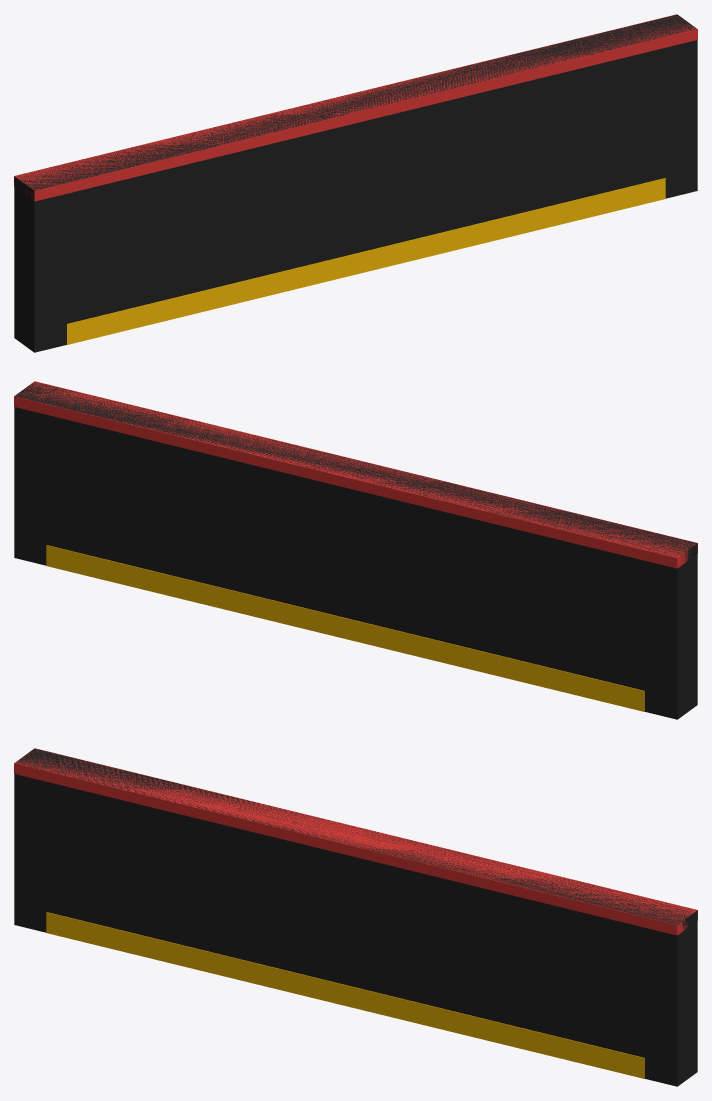
The model's file is RAM.fbx.
The picture shows the model from 3 angles, top to bottom: view 1: azimuth 30°, elevation 25°; view 2: azimuth 150°, elevation 25°; view 3: azimuth 330°, elevation 25°; orthographic projection.
Parts seen in each view (by area): view 1: Badan; view 2: Badan; view 3: Badan.
Part boxes in pixels (x1=…): Badan: x1=14, y1=14, x2=697, y2=352; Badan: x1=14, y1=381, x2=697, y2=719; Badan: x1=14, y1=748, x2=697, y2=1086.
Size of the model in its own units: 13.3 by 3.1 by 0.72.
